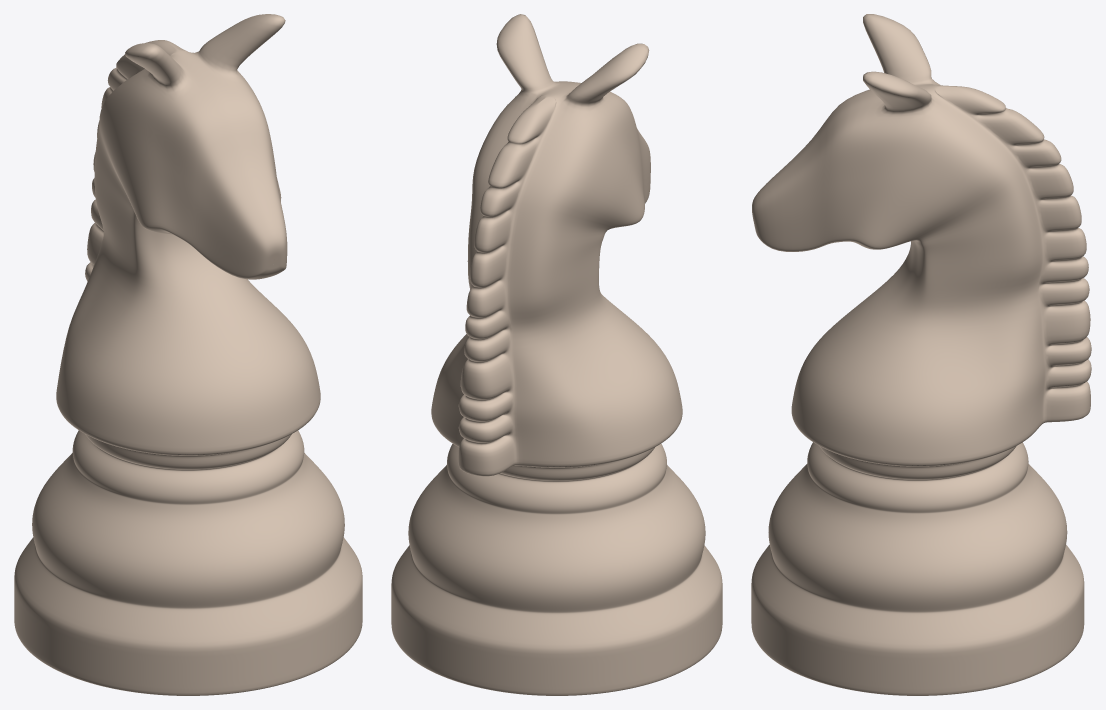
File: white_knight.glb
3 views of the same model, side by side, from view 1: azimuth 30°, elevation 25°; view 2: azimuth 150°, elevation 25°; view 3: azimuth 270°, elevation 25° (orthographic). The views are drawn at different scales.
Parts seen in each view (by area): view 1: άλογο.002; view 2: άλογο.002; view 3: άλογο.002.
Part boxes in pixels (box(x1,y1,x2,y2)): άλογο.002: box(14, 14, 362, 695); άλογο.002: box(391, 14, 722, 695); άλογο.002: box(751, 14, 1091, 695).
Size of the model in its own units: 1.99 by 3.84 by 2.03.
